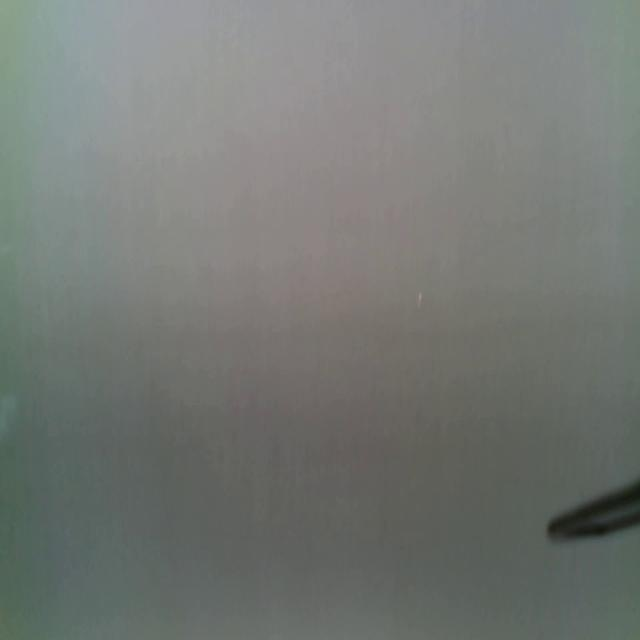hole: (418, 290, 423, 310)
